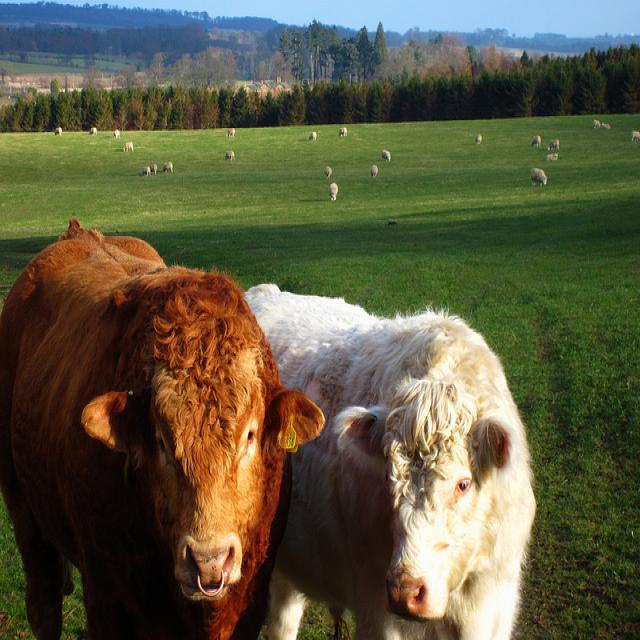cow: (0, 213, 325, 632), (244, 277, 538, 631), (530, 165, 545, 183), (546, 138, 558, 150), (121, 140, 132, 152), (529, 134, 539, 146), (380, 148, 389, 160), (545, 152, 557, 160)
